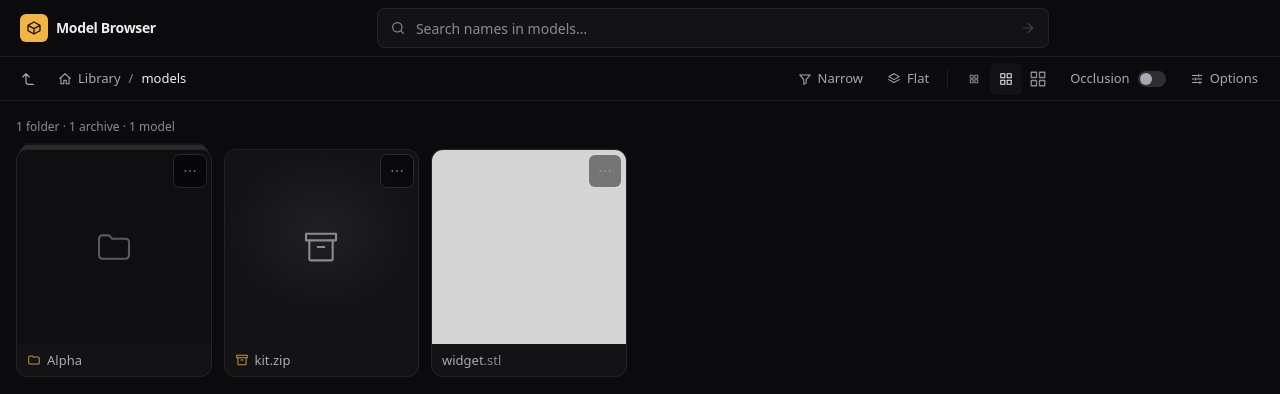
it: raising the menu › opens on a secondary press without orbiting or opening the viewer
Press the mouse on the button "widget.stl" at (529, 263), box left=431, top=149, right=626, bottom=377
Right-click the button "widget.stl" at (529, 263), box left=431, top=149, right=626, bottom=377
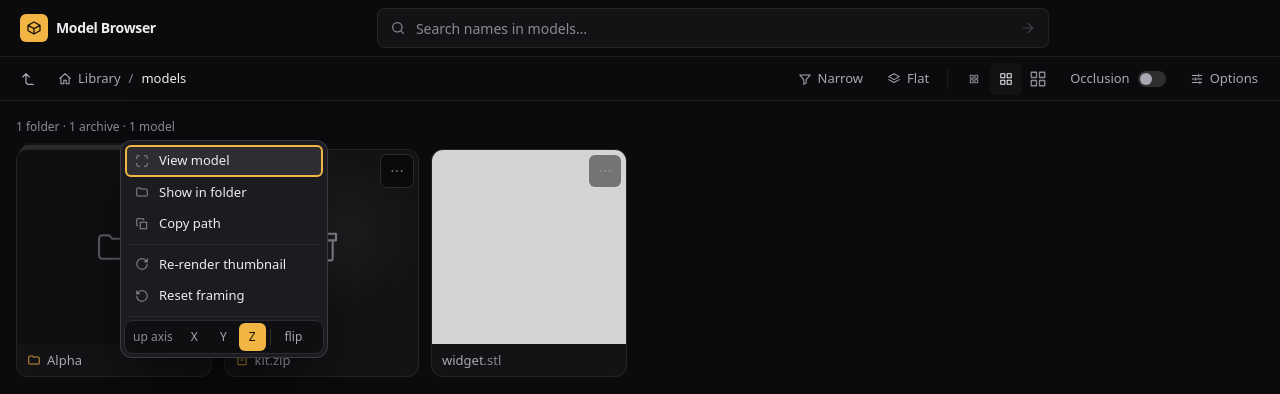
Expected: the menu is shown, left=120, top=140, right=328, bottom=358
